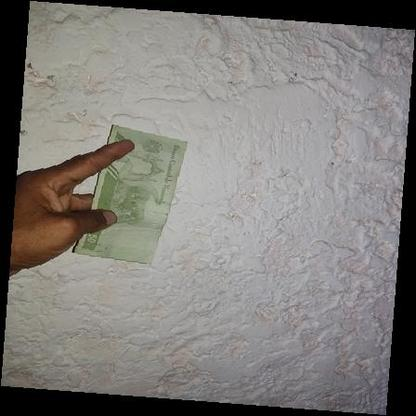fifty-back-vef: (72, 122, 188, 264)
